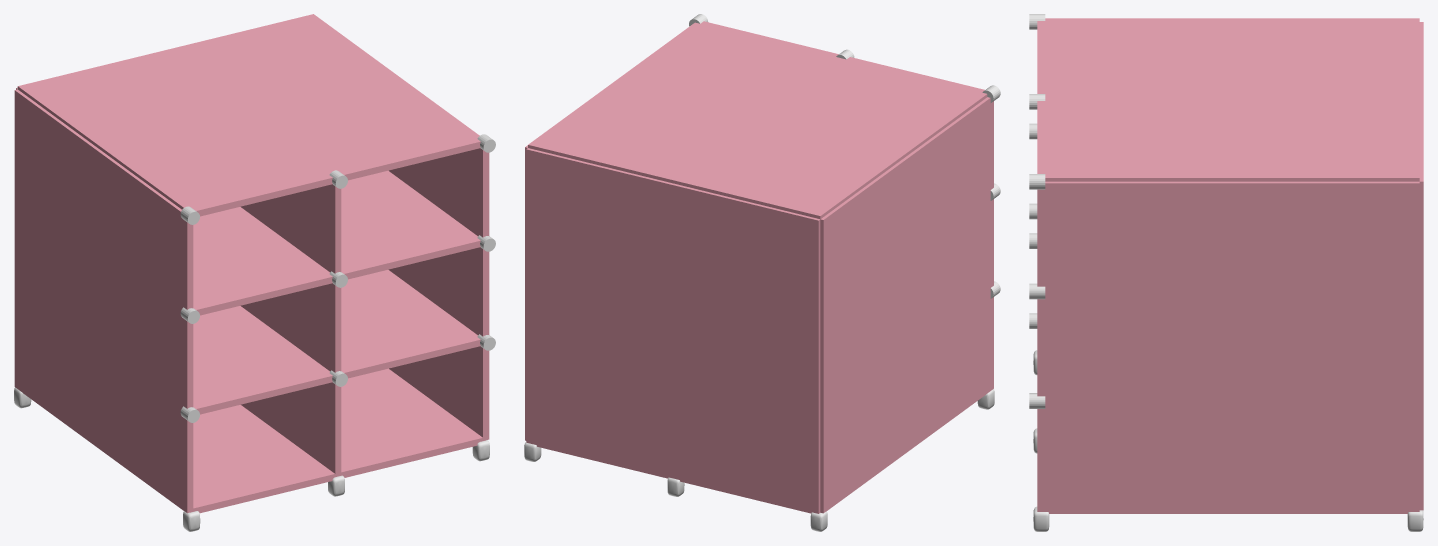
3 views of the same model, side by side, from view 1: azimuth 30°, elevation 25°; view 2: azimuth 150°, elevation 25°; view 3: azimuth 270°, elevation 25° (orthographic). The views are drawn at different scales.
Parts seen in each view (by area): view 1: 1 left_panel, 7 top_shelf, 4 bottom_shelf, 5 lower_mid_shelf, 6 upper_mid_shelf, 2 center_divider, 3 right_panel; view 2: 8 back_panel, 1 left_panel, 7 top_shelf, 4 bottom_shelf, 3 right_panel; view 3: 3 right_panel, 7 top_shelf, 8 back_panel, 4 bottom_shelf.
Boxes of the visible parts, <box> form: 1 left_panel: <box>14,89,193,513</box>; 7 top_shelf: <box>17,14,480,216</box>; 4 bottom_shelf: <box>23,368,486,513</box>; 5 lower_mid_shelf: <box>193,270,480,414</box>; 6 upper_mid_shelf: <box>193,170,480,315</box>; 2 center_divider: <box>240,184,341,476</box>; 3 right_panel: <box>388,148,489,439</box>; 8 back_panel: <box>526,148,820,513</box>; 1 left_panel: <box>820,97,993,513</box>; 7 top_shelf: <box>528,21,987,219</box>; 4 bottom_shelf: <box>536,396,983,513</box>; 3 right_panel: <box>525,145,527,440</box>; 3 right_panel: <box>1037,181,1419,511</box>; 7 top_shelf: <box>1037,18,1419,181</box>; 8 back_panel: <box>1419,22,1423,510</box>; 4 bottom_shelf: <box>1048,512,1408,513</box>.
Bounding box in the file's own units: 0.2997 × 0.2997 × 0.2997.
